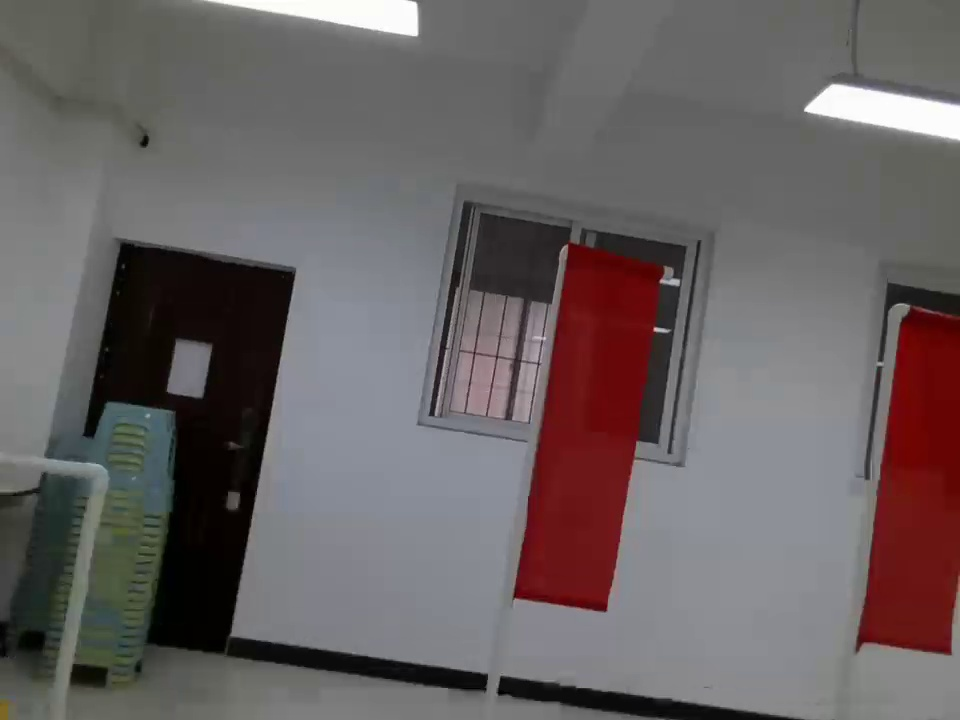qi: (490, 239, 670, 639), (842, 293, 960, 677)
